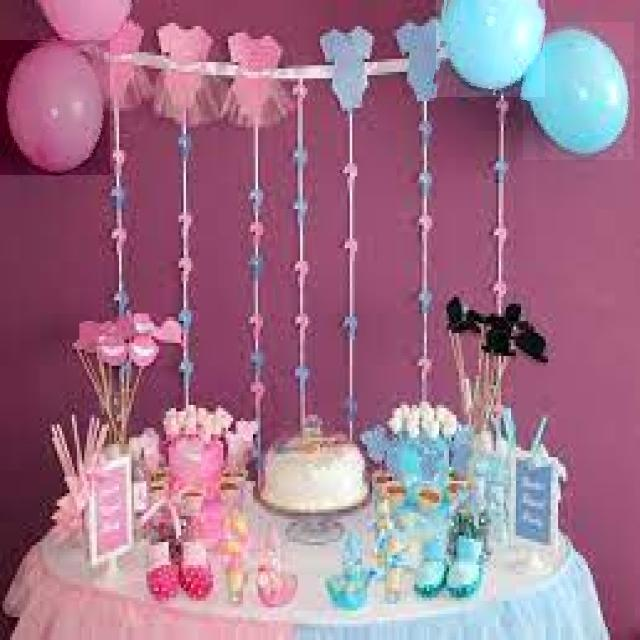balloon: (523, 22, 634, 160), (0, 40, 110, 175), (436, 0, 545, 97), (34, 0, 137, 51)
